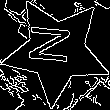N_E: (31, 29, 83, 73)
